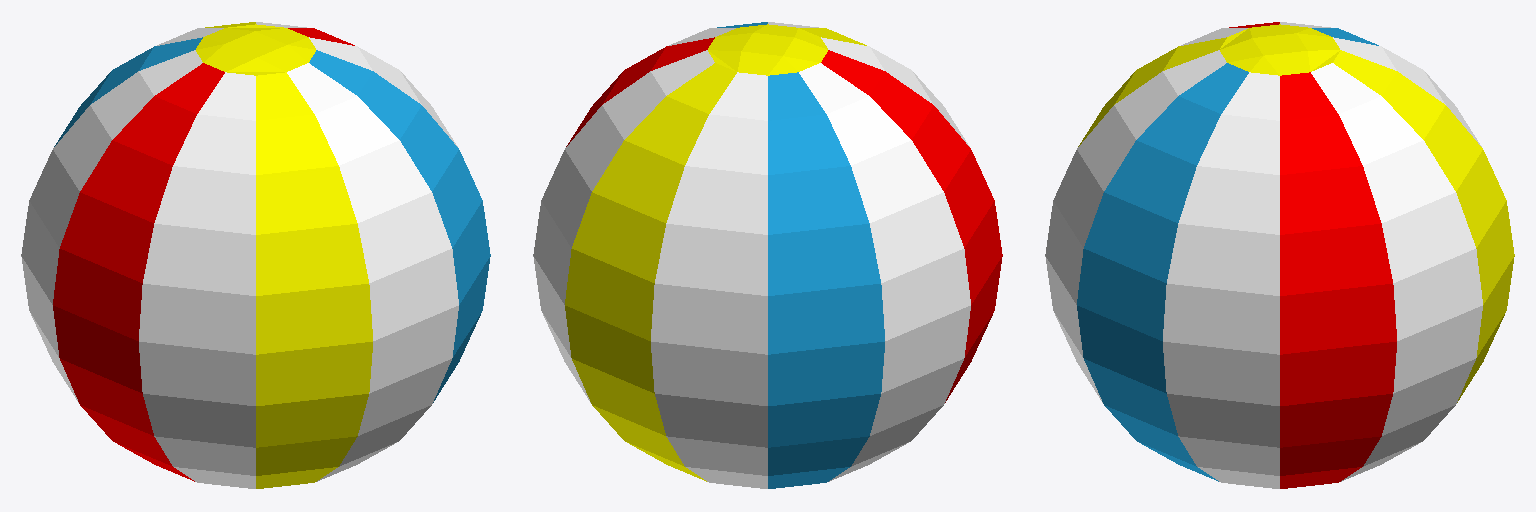
3 renders of one model, left to right at view 1: azimuth 30°, elevation 25°; view 2: azimuth 150°, elevation 25°; view 3: azimuth 270°, elevation 25°, orthographic.
Visible parts, largest first — view 1: BeachBall; view 2: BeachBall; view 3: BeachBall.
Part boxes in pixels (bbox=[...]): BeachBall: bbox=[21, 22, 490, 488]; BeachBall: bbox=[533, 22, 1002, 488]; BeachBall: bbox=[1045, 22, 1514, 488].
Size of the model in its own units: 1.87 by 1.86 by 1.87.
Materials: 1 (1 with a texture image).